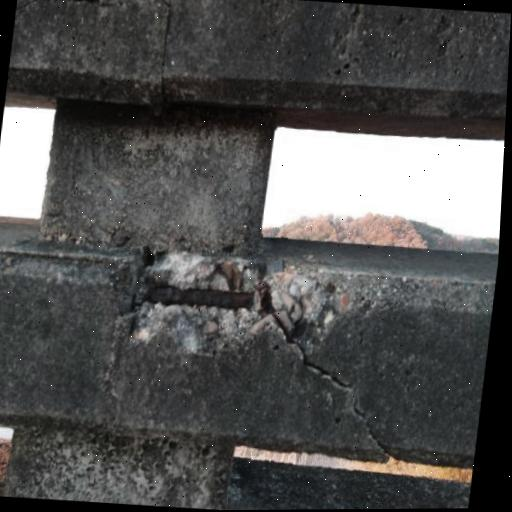exposed_rebar: (149, 286, 254, 308)
spalling: (129, 252, 352, 354)
